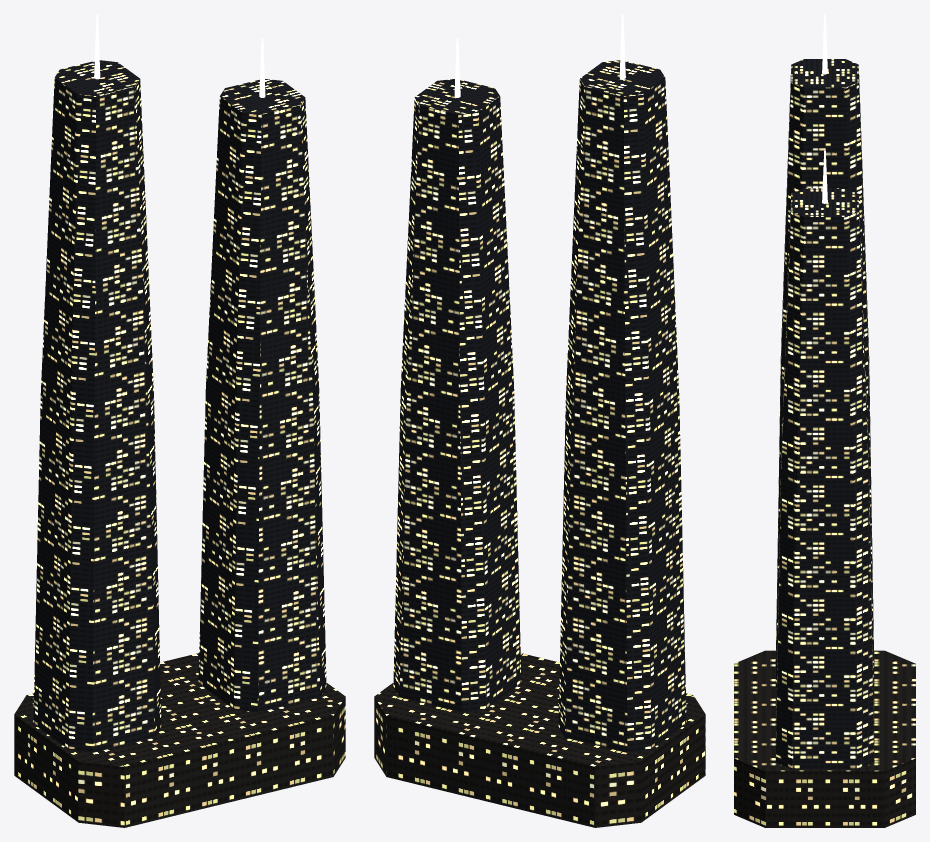
Rendered from astaka-towers.glb.
The picture shows the model from 3 angles, left to right: view 1: azimuth 30°, elevation 25°; view 2: azimuth 150°, elevation 25°; view 3: azimuth 270°, elevation 25°; orthographic projection. The views are drawn at different scales.
Parts seen in each view (by area): view 1: tower-0, tower-1, podium; view 2: tower-0, tower-1, podium; view 3: tower-1, podium, tower-0.
Part boxes in pixels (box(x1,y1,x2,y2)): tower-0: box(33, 60, 161, 752); tower-1: box(198, 79, 326, 712); podium: box(14, 653, 345, 827); tower-0: box(558, 60, 686, 752); tower-1: box(393, 79, 521, 712); podium: box(374, 653, 705, 827); tower-1: box(776, 188, 873, 768); podium: box(734, 650, 915, 827); tower-0: box(776, 59, 873, 687).
Bounding box in the file's own units: 110 × 304 × 70.
3 materials, 2 textured.
